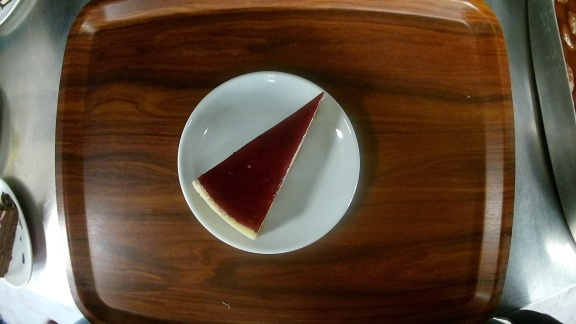frambuazlipasta: (177, 70, 361, 253)
